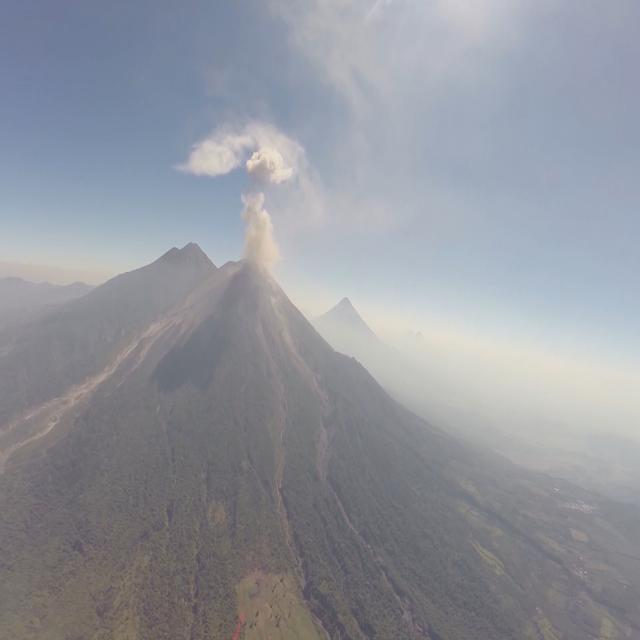Plume: (242, 188, 280, 272), (182, 125, 242, 176), (246, 145, 296, 188)
